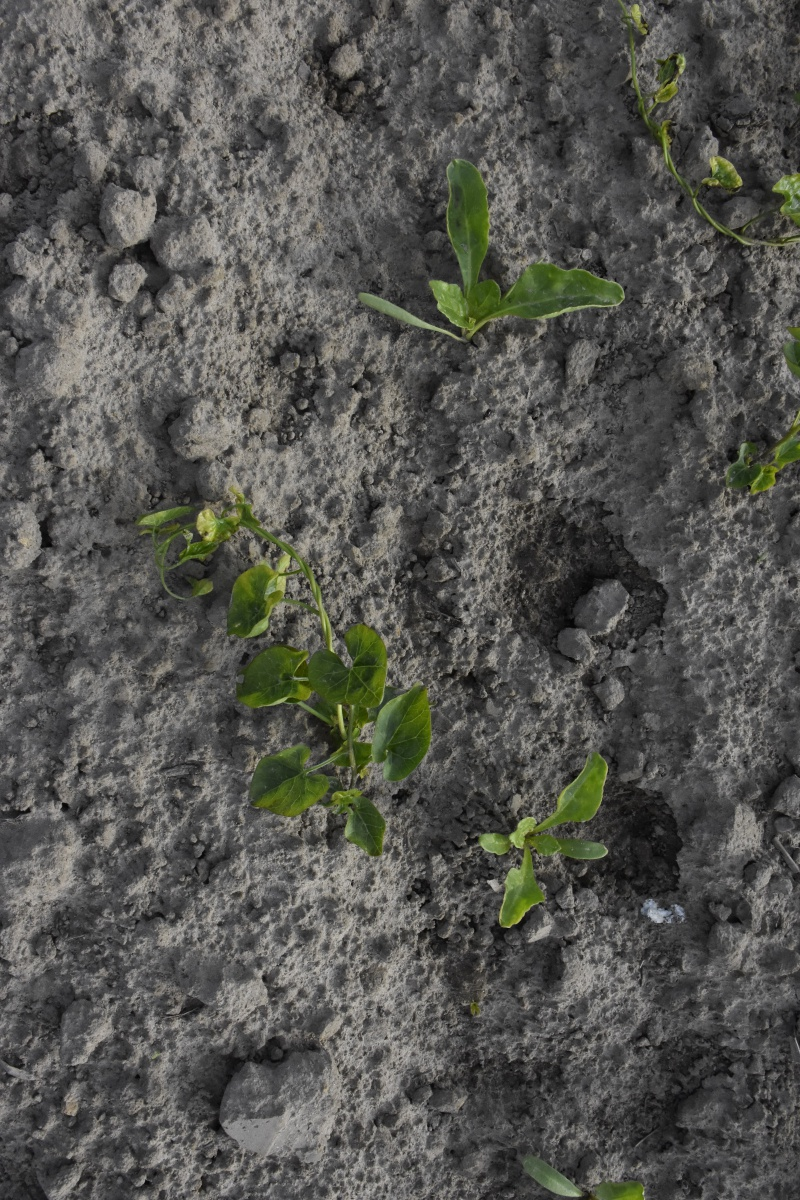field bindweed: (140, 492, 447, 874), (608, 9, 798, 262), (721, 421, 800, 507)
sugar beet: (337, 149, 634, 345), (470, 742, 630, 929)
